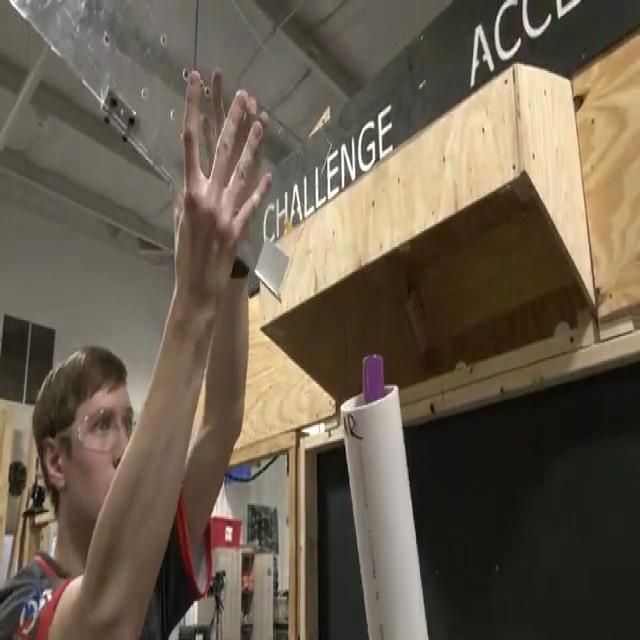Coral: (338, 354, 430, 636)
